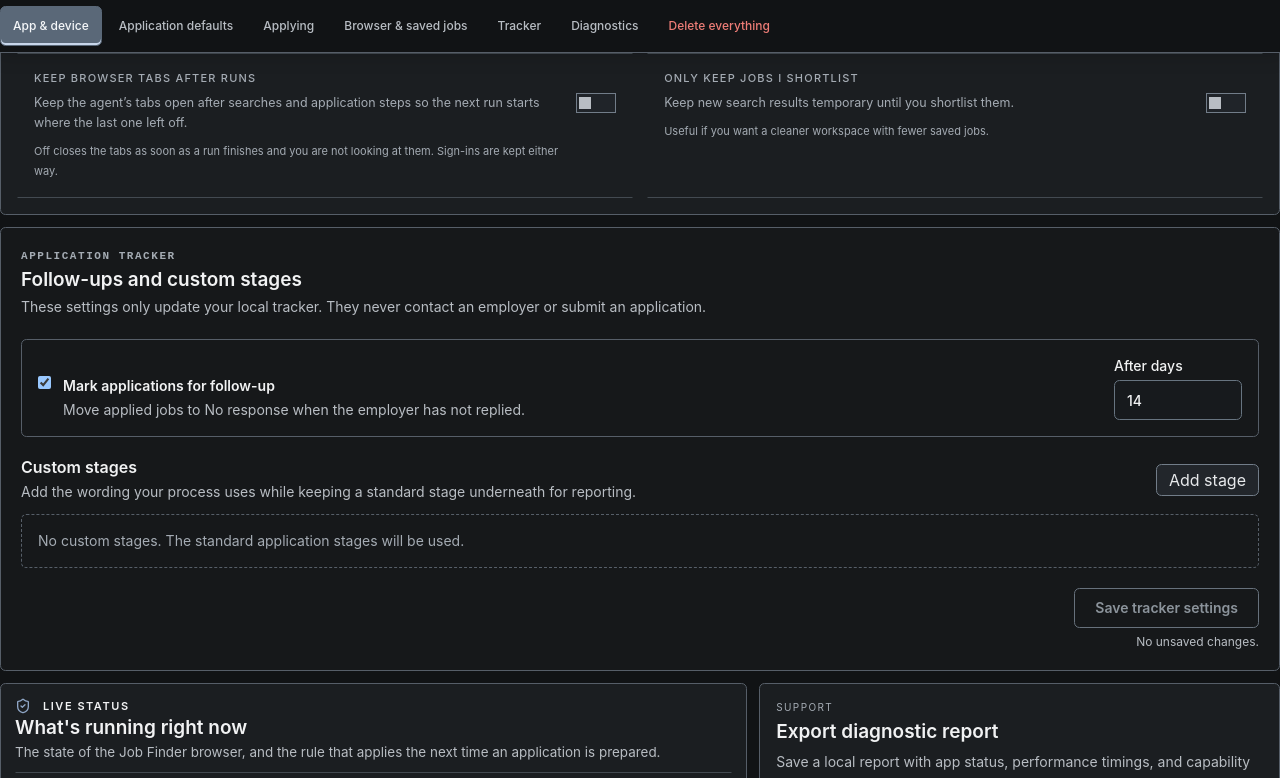
Test case: SettingsScreen scoped section saves › resets tracker edits only after the CRM save resolves true
(page scrolled)
Replace the text in the number field labelled "After days" with "9" at point(1178, 400), box [1114,380,1242,420]
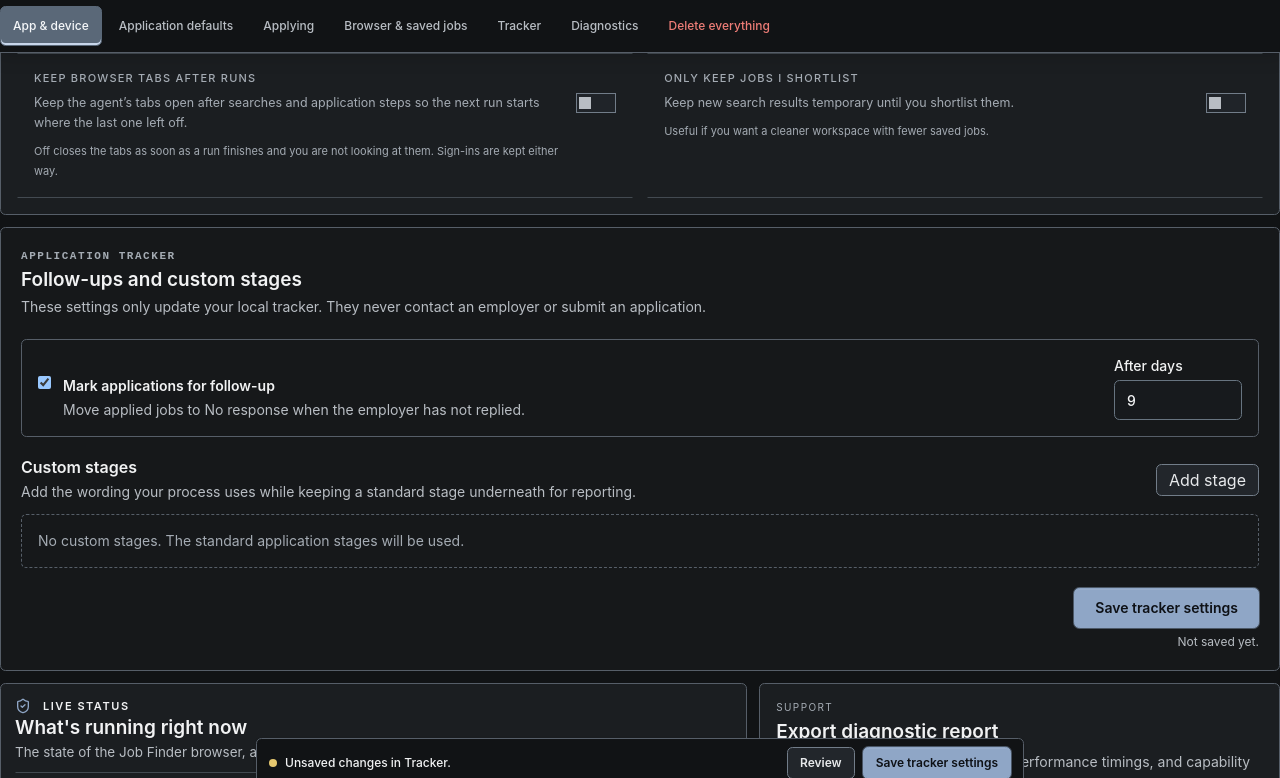
Click the button "Save tracker settings" below "After days" at point(1167, 608), box [1074,588,1259,628]
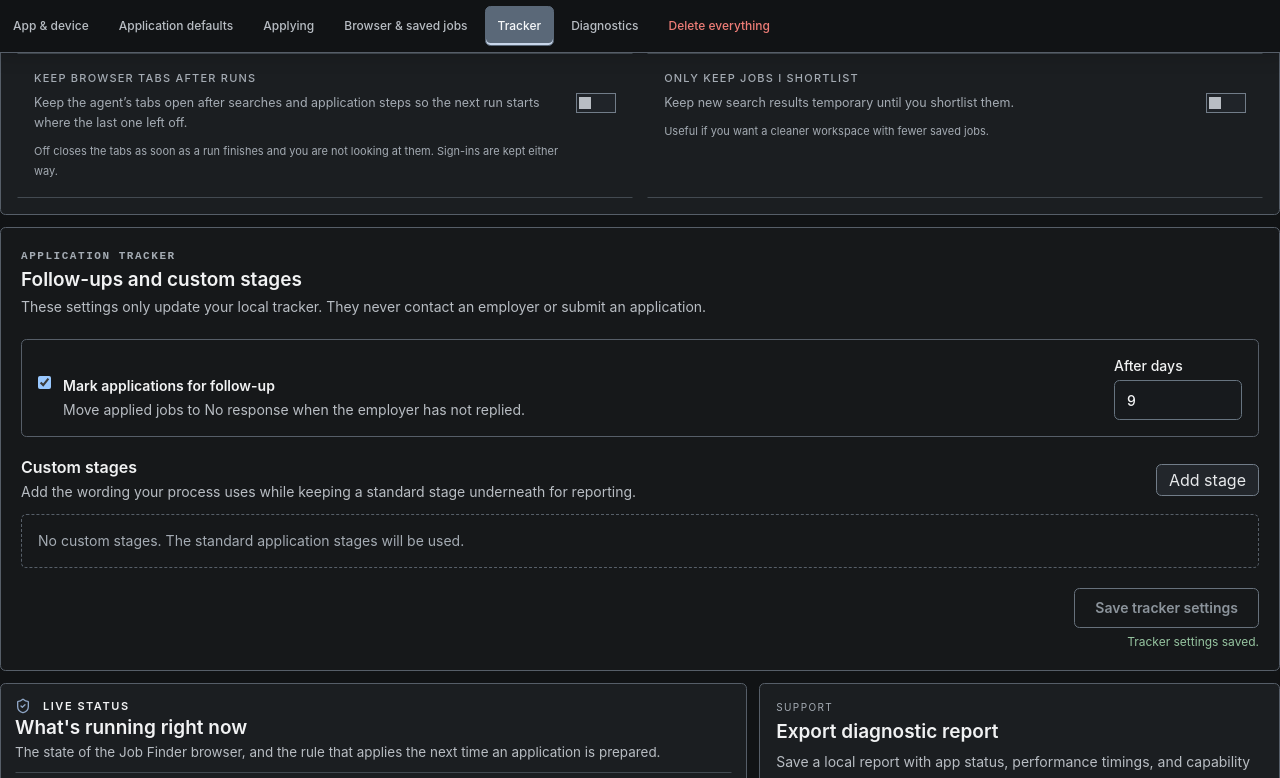
Now the button "Save tracker settings" is disabled, box [1074,588,1259,628]
